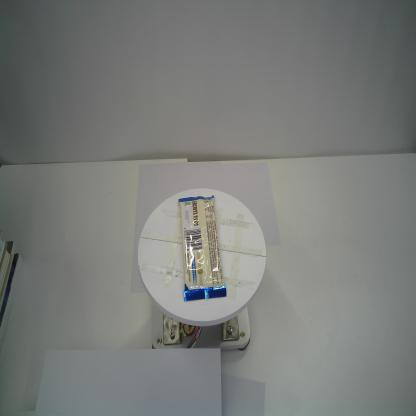Chocolate: (178, 193, 228, 303)
